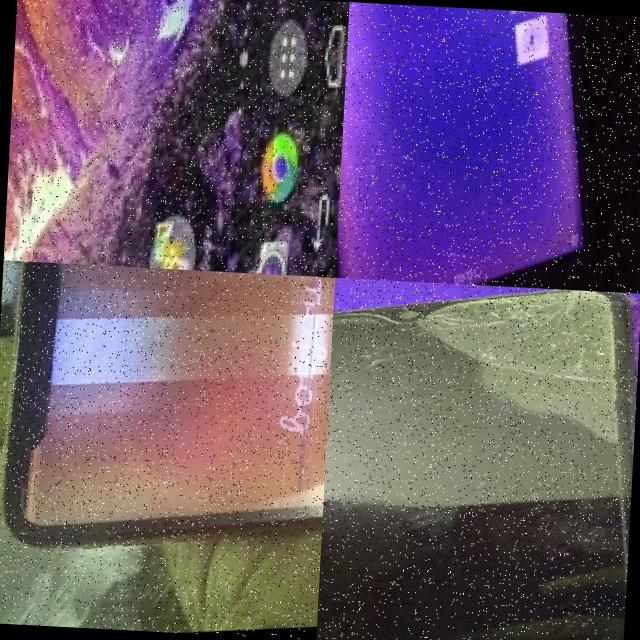dead pixel: (284, 274, 322, 306)
screen crack: (324, 277, 605, 488)
